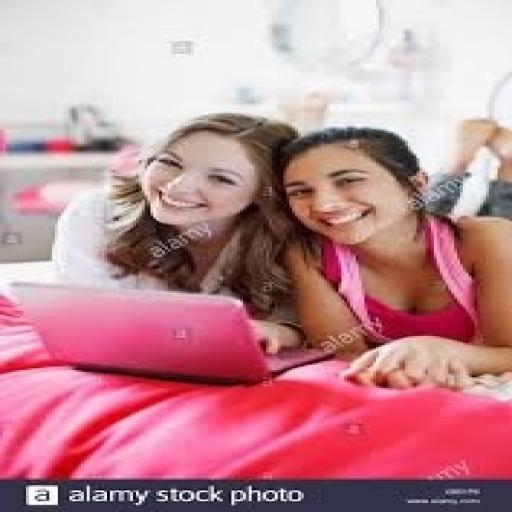using_laptop: (3, 275, 335, 384)
